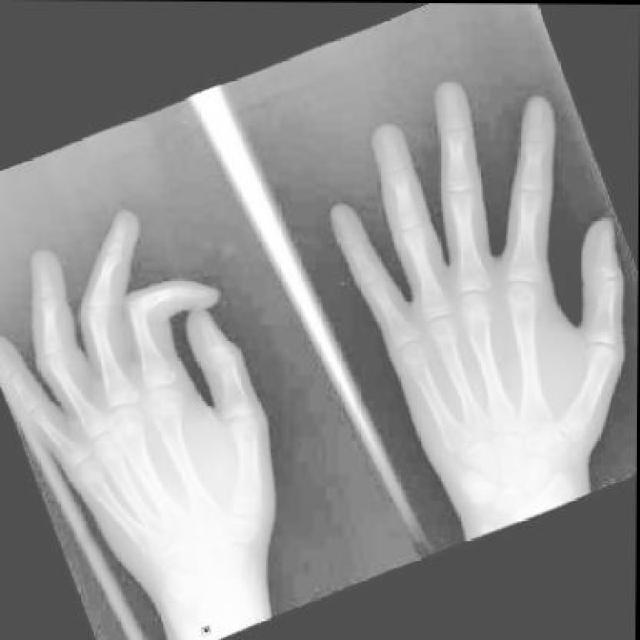Fracture: (388, 165, 418, 192), (37, 290, 64, 313)
